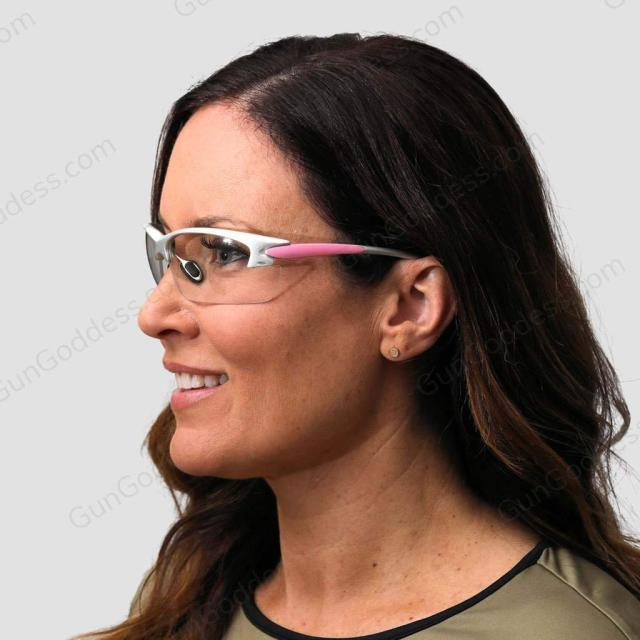Safety Glasses: (136, 208, 438, 310)
